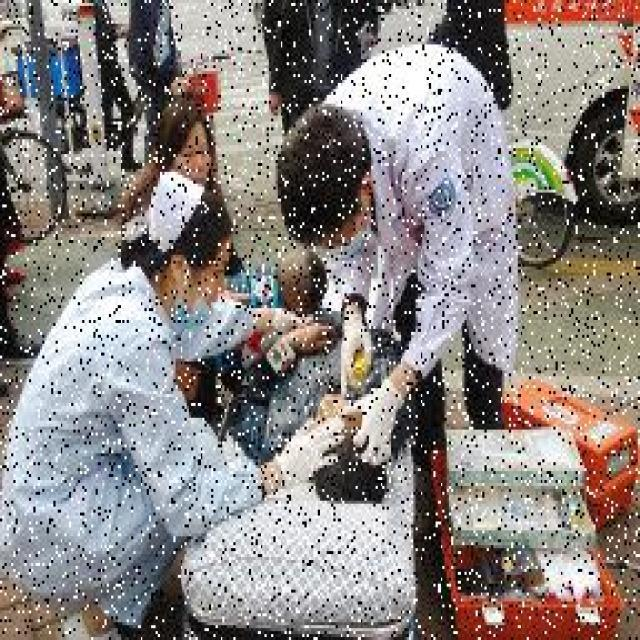fall: (247, 302, 402, 486)
